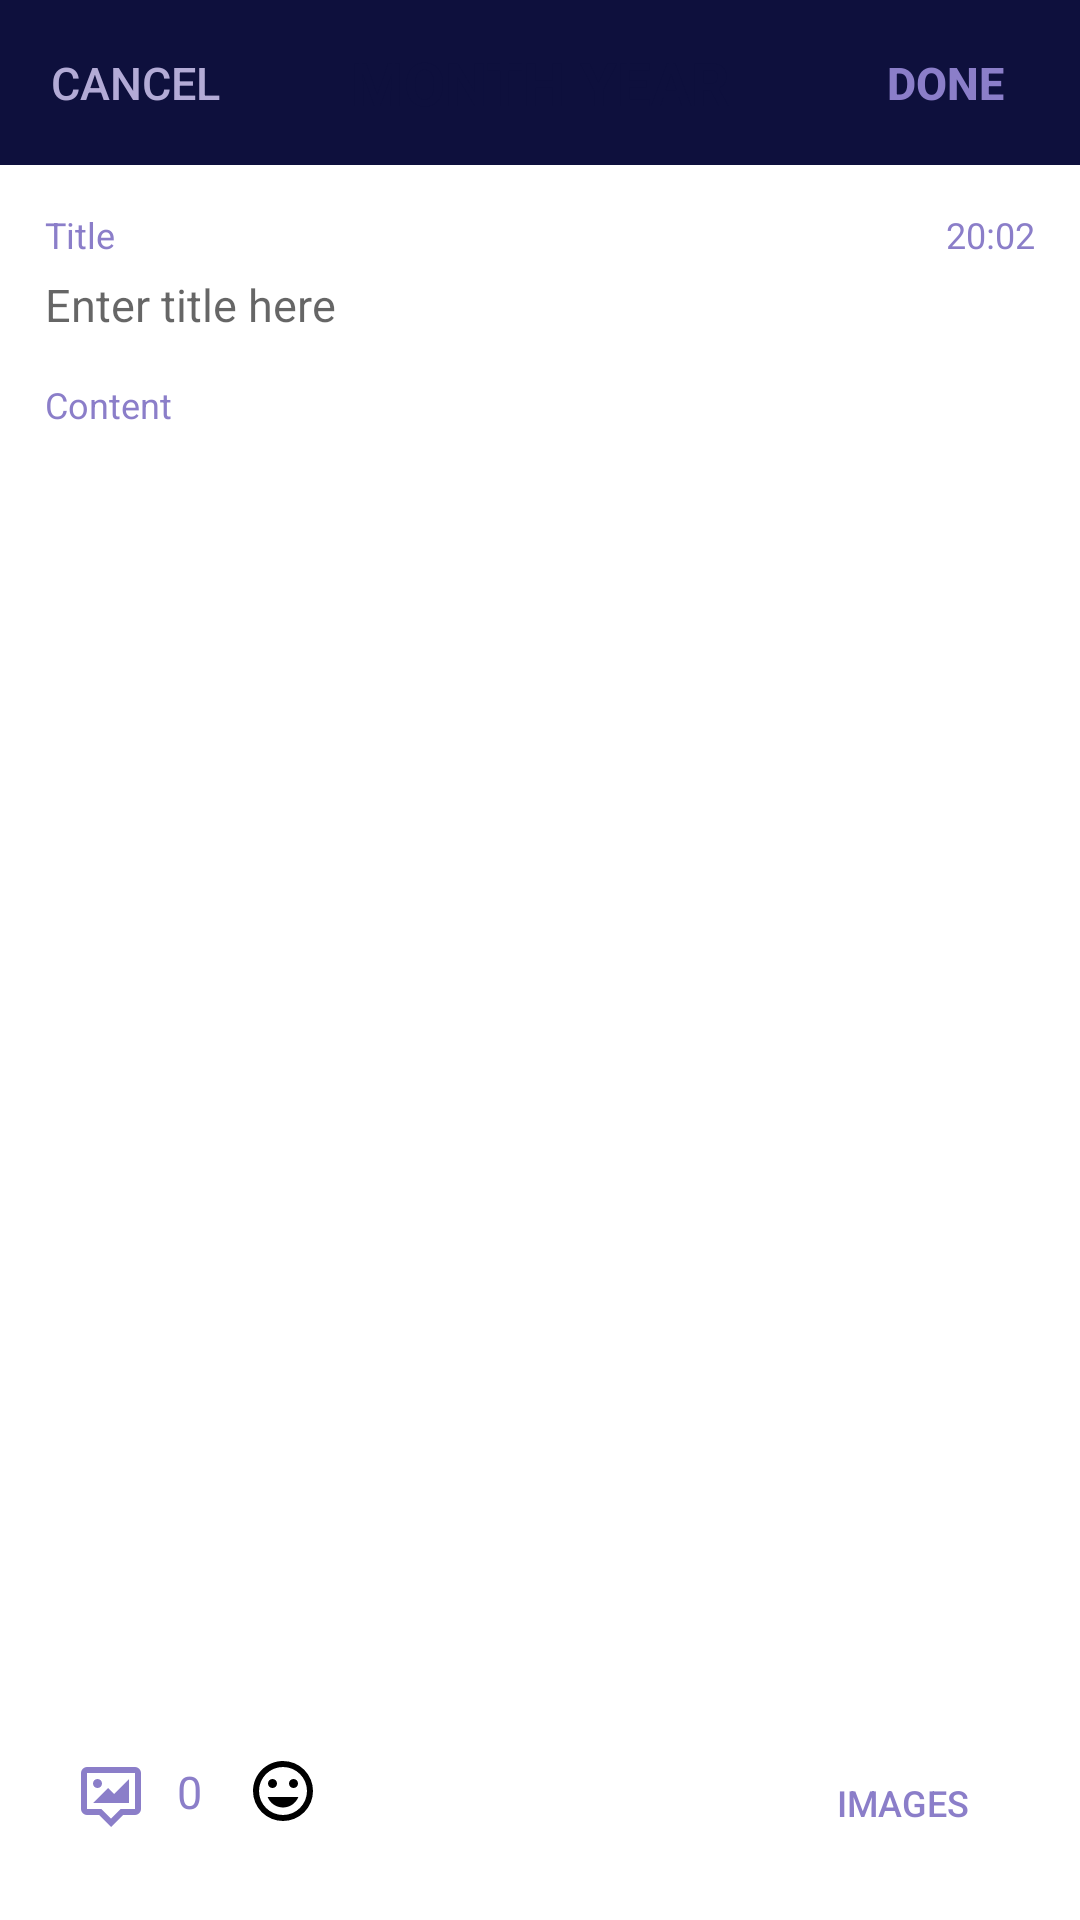

Icons on this 1080 × 1920 Android screen, each with its box as (x1, y1, x2, y2):
gallery: (81, 1767, 141, 1827)
moods: (253, 1761, 313, 1821)
